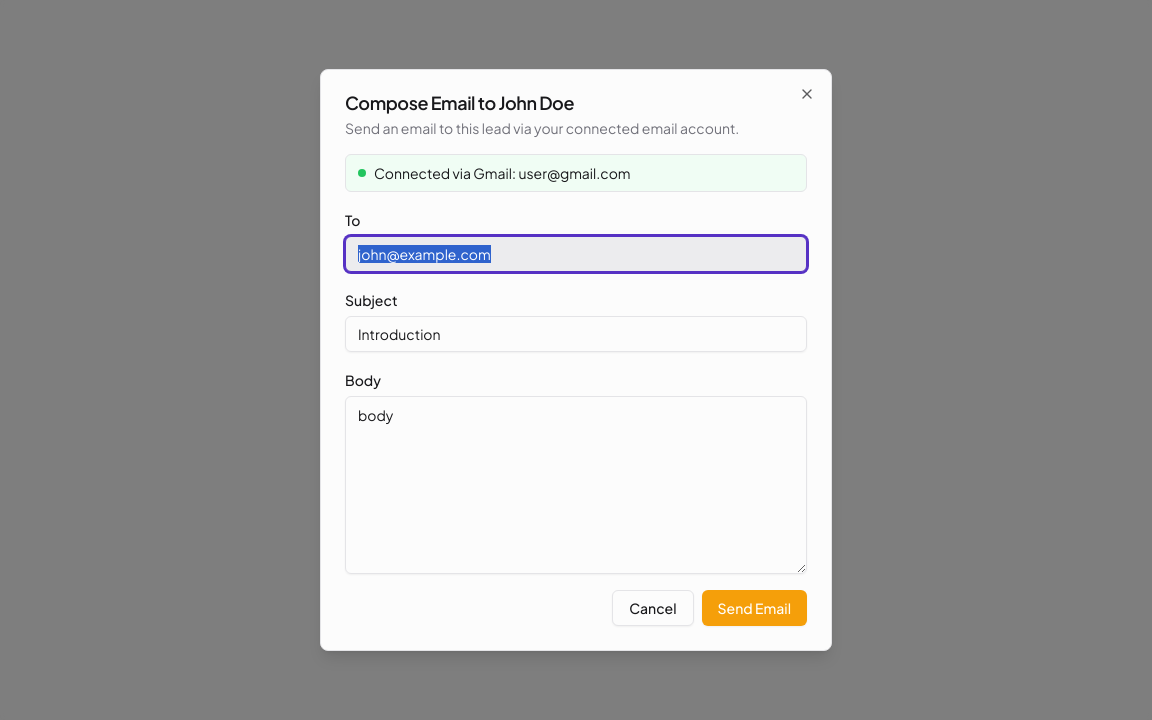
Test: ComposeEmailModal › error types render correct Failure_Alert messages › shows EMAIL_MISSING error message
Click the button "Send Email". click: (754, 608)
box: [702, 590, 807, 626]
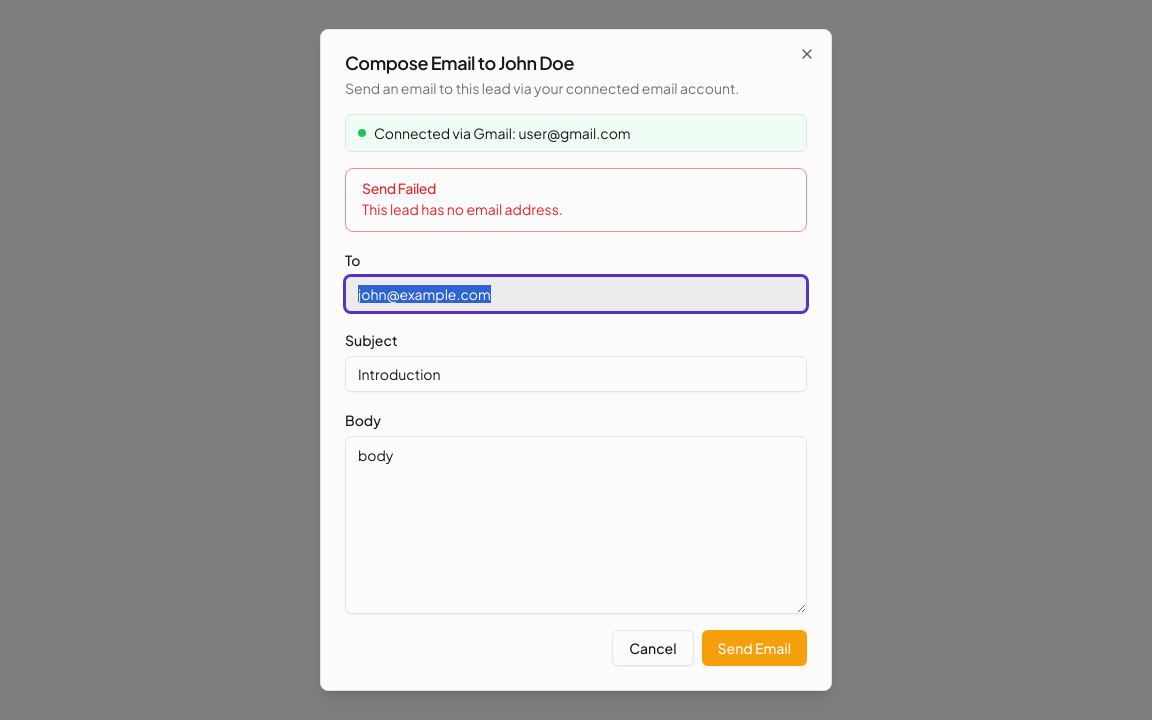
Expected: the heading "Send Failed" is shown, [362, 179, 436, 197]
Expected: the text "This lead has no email address." is shown, [362, 200, 563, 218]
